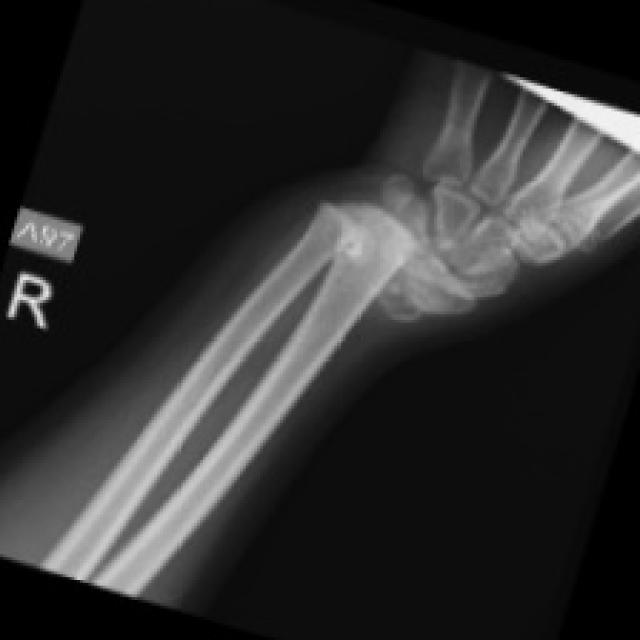fracture: (279, 134, 436, 323)
